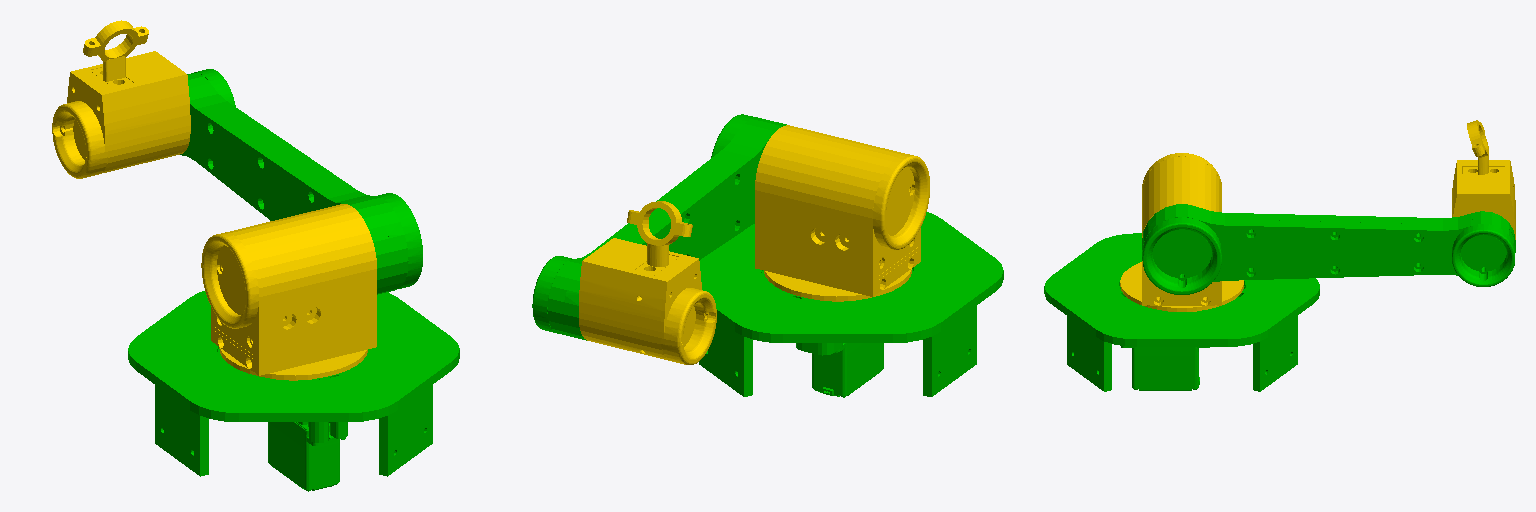
robot.urdf — main_urdf_assembly_new:
<?xml version="1.0" encoding="utf-8"?>
<!-- This URDF was automatically created by SolidWorks to URDF Exporter! Originally created by [author] ([email redacted]) 
     Commit Version: 1.6.0-4-g7f85cfe  Build Version: 1.6.7995.38578
     For more information, please see http://wiki.ros.org/sw_urdf_exporter -->
     
     
<robot
  name="main_urdf_assembly_new">
  
  <link name="world"/>
  <joint name="base_joint" type="fixed">
  <parent link="world"/>
  <child link="base_link"/>
  <origin rpy="0 0 0" xyz="0.0 0.0 0.03"/>
  </joint>
  
  
<link name="base_link">
  
	    <inertial>
	      <origin xyz="0 0 0" rpy="0 0 0" />
	      <mass value="0.01" />
	      <inertia
		ixx="0.01" ixy="0.0" ixz="0.0"
		iyy="0.01" iyz="0.0" izz="0.01" />
	    </inertial>
    
	    <visual>
	    <origin xyz="0 0 0" rpy="0 0 0" />
	    <geometry>
	    <mesh filename="package://inpipe_description/meshes/base_link.STL" />
	    </geometry>
    <material name="green">
       <color rgba="0.0 0.8 0.0 1.0" />
    </material>
            </visual>
            <collision>
            <origin xyz="0 0 0" rpy="0 0 0" />
            <geometry>
            <mesh filename="package://inpipe_description/meshes/base_link.STL" />
            </geometry>
            </collision>
</link>

  


  
<link name="link_1">

    <inertial>
     <origin xyz="0 0 0" rpy="0 0 0" />
     <mass value="0.01" />
     <inertia
      ixx="0.01" ixy="0.0" ixz="0.0"
      iyy="0.01" iyz="0.0" izz="0.01" />
    </inertial>
    
    <visual>
    <origin xyz="0 0 0" rpy="0 0 0" />
    <geometry>
    <mesh filename="package://inpipe_description/meshes/link_1.STL" />
    </geometry>
  <material name="gold">
    <color rgba="1.0 0.843 0.0 1.0" />
  </material>
    </visual>
    
    <collision>
    <origin xyz="0 0 0" rpy="0 0 0" />
    <geometry>
    <mesh filename="package://inpipe_description/meshes/link_1.STL" />
    </geometry>
    </collision>
    
</link>





<link name="link_2">
    
    <inertial>
      <origin xyz="0 0 0" rpy="0 0 0" />
      <mass value="0.01" />
      <inertia
        ixx="0.01" ixy="0.0" ixz="0.0"
	iyy="0.01" iyz="0.0" izz="0.01" />
    </inertial>
    
    <visual>
    <origin xyz="0 0 0" rpy="0 0 0" />
    <geometry>
    <mesh filename="package://inpipe_description/meshes/link_2.STL" />
    </geometry>
  <material name="green">
    <color rgba="0.0 0.8 0.0 1.0" />
  </material>
    </visual>
    
    <collision>
    <origin xyz="0 0 0" rpy="0 0 0" />
    <geometry>
    <mesh filename="package://inpipe_description/meshes/link_2.STL" />
    </geometry>
    </collision>
    
</link>




  
<link name="link_3">
    
    <inertial>
      <origin
        xyz="0.0100844663060304 6.13779200576703E-05 -0.011997538970718" rpy="0 0 0" />
      <mass value="0.01" />
      <inertia
        ixx="1.1212917780142E-05" ixy="-1.13775385716154E-08" ixz="-3.93317930034554E-07"
        iyy="1.413273298445E-05" iyz="1.05670911320741E-08" izz="1.41351338347012E-05" />
    </inertial>
    
    
    <visual>
    <origin xyz="0 0 0" rpy="0 0 0" />
    <geometry>
    <mesh filename="package://inpipe_description/meshes/link_3.STL" />
    </geometry>
  <material name="gold">
    <color rgba="1.0 0.843 0.0 1.0" />
  </material>
    </visual>
    
    
    <collision>
    <origin xyz="0 0 0" rpy="0 0 0" />
    <geometry>
    <mesh filename="package://inpipe_description/meshes/link_3.STL" />
    </geometry>
    </collision>
    
</link>





  
  
<joint name="joint_1" type="revolute">

    <origin xyz="0 0 0.02006" rpy="0 0 0" />
    <parent link="base_link" />
    <child link="link_1" />
    <axis xyz="0 0 1" />
    <limit lower="-3.2" upper="0.1" effort="0.55" velocity="6" />
    
</joint>
  
  
<joint name="joint_2" type="revolute">
    
    <origin xyz="0.019878 4.096E-05 0.0599" rpy="1.5708 0 1.5708" />
    <parent link="link_1" />
    <child link="link_2" />
    <axis xyz="0 0 -1" />
    <limit lower="-3.2" upper="0.1" effort="0.55" velocity="6" />
    
</joint>
  
    
<joint name="joint_3" type="revolute">
    
    <origin xyz="0.18 0.00039788 0" rpy="0 0 1.5708" />
    <parent link="link_2" />
    <child link="link_3" />
    <axis xyz="0 0 1" />
    <limit
      lower="-3.2" upper="0.1" effort="0.4" velocity="10" />
</joint>



<transmission name="tran1">
	<type>transmission_interface/SimpleTransmission</type>
	<joint name="joint_1">
	 <hardwareInterface>hardware_interface/PositionJointInterface</hardwareInterface>
	</joint>
	<actuator name="motor1">
	 <hardwareInterface>hardware_interface/PositionJointInterface</hardwareInterface>
	<mechanicalReduction>1</mechanicalReduction>
	</actuator>
 </transmission>

 
 <transmission name="tran2">
	<type>transmission_interface/SimpleTransmission</type>
	<joint name="joint_2">
	 <hardwareInterface>hardware_interface/PositionJointInterface</hardwareInterface>
	</joint>
	<actuator name="motor2">
	 <hardwareInterface>hardware_interface/PositionJointInterface</hardwareInterface>
	<mechanicalReduction>1</mechanicalReduction>
	</actuator>
 </transmission>

 
 <transmission name="tran3">
	<type>transmission_interface/SimpleTransmission</type>
	<joint name="joint_3">
	 <hardwareInterface>hardware_interface/PositionJointInterface</hardwareInterface>
	</joint>
	<actuator name="motor3">
	 <hardwareInterface>hardware_interface/PositionJointInterface</hardwareInterface>
	<mechanicalReduction>1</mechanicalReduction>
	</actuator>
 </transmission>
 
 
 
 
 <gazebo>
     <plugin name="gazebo_ros_control" filename="libgazebo_ros_control.so">
      <robotNamespace>/robot</robotNamespace>
     </plugin>
 </gazebo>
 
 
 
 
 <gazebo reference="base_link">
 	<material> Gazebo/Green </material>
 	<selfCollide>true</selfCollide>
 </gazebo>
 
 
 <gazebo reference="link_1">
  	<material> Gazebo/Gold </material>
  	<selfCollide>true</selfCollide>
  	
 </gazebo>
 
 <gazebo reference="link_2">
  	<material> Gazebo/Green </material>
 	<selfCollide>true</selfCollide>
 </gazebo>
 
 <gazebo reference="link_3">
  	<material> Gazebo/Gold </material>
 	<selfCollide>true</selfCollide>
 </gazebo>
 
 





</robot>

--- Facts derived from the render (not from the file) ---
The picture shows the robot from 3 angles, left to right: view 1: azimuth 30°, elevation 25°; view 2: azimuth 150°, elevation 25°; view 3: azimuth 270°, elevation 25°; orthographic projection.
Model main_urdf_assembly_new with 5 links and 4 joints (3 revolute, 1 fixed), rooted at world, posed every joint at zero.
Visible links, largest first — view 1: base_link, link_1, link_2, link_3; view 2: base_link, link_1, link_3, link_2; view 3: link_2, base_link, link_1, link_3.
Boxes of the visible links, x1,y1,x2,y2 form: base_link: (128, 291, 459, 491); link_1: (201, 204, 376, 380); link_2: (180, 69, 422, 294); link_3: (52, 20, 190, 178); base_link: (699, 212, 1003, 397); link_1: (755, 125, 929, 301); link_3: (579, 201, 716, 364); link_2: (532, 114, 786, 340); link_2: (1142, 204, 1515, 294); base_link: (1044, 233, 1319, 391); link_1: (1120, 153, 1243, 311); link_3: (1452, 120, 1515, 239).
Bounding box of the posed robot: 0.15 × 0.2813 × 0.173 m (x, y, z).
4 mesh visuals loaded from 4 distinct referenced files (4 binary STL).